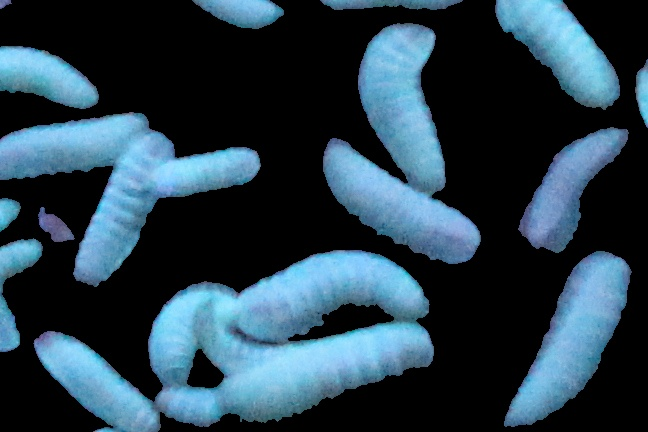larvae: (229, 322, 432, 432), (505, 253, 627, 425), (316, 137, 475, 268), (515, 119, 629, 255), (489, 1, 630, 103), (237, 258, 430, 327), (35, 329, 161, 432), (72, 148, 167, 284), (361, 23, 436, 189), (1, 117, 150, 180), (148, 283, 233, 381), (1, 46, 102, 105), (153, 148, 258, 200), (152, 386, 227, 422), (1, 191, 13, 274)
